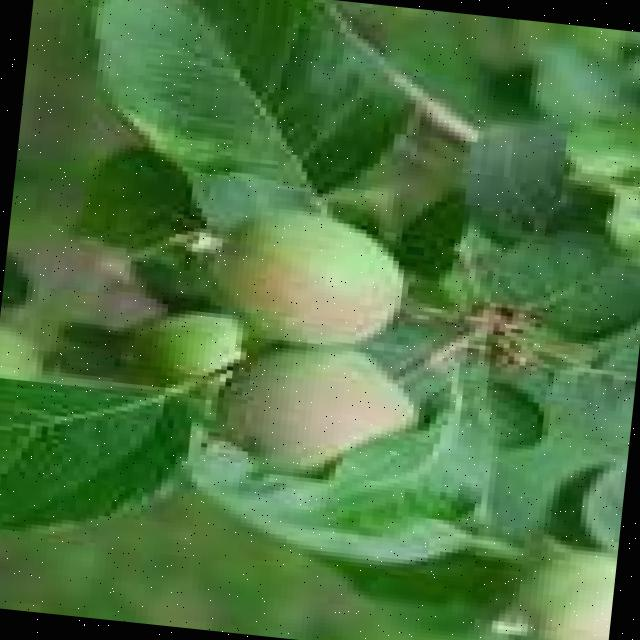Unripe: (192, 203, 412, 354)
